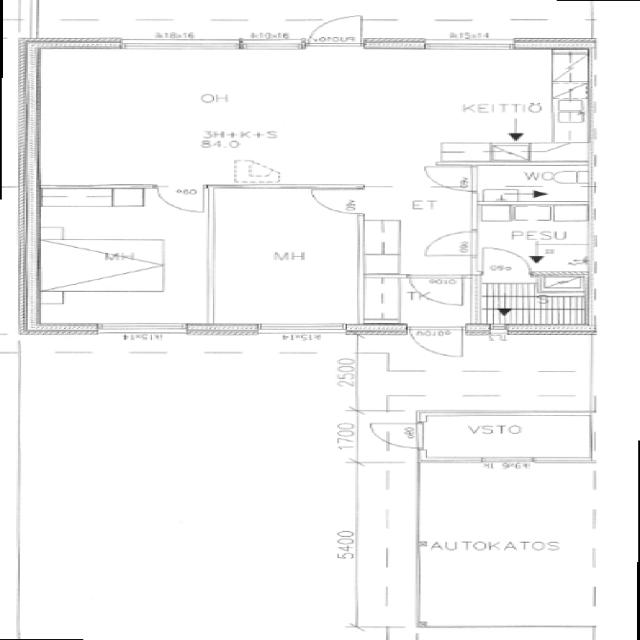door: (407, 236, 472, 307), (299, 12, 369, 49), (405, 323, 466, 361), (219, 158, 290, 190), (406, 273, 468, 307), (363, 419, 424, 451), (416, 229, 483, 258), (151, 182, 207, 215), (306, 185, 364, 216), (417, 162, 475, 192), (476, 245, 534, 275)
window: (406, 455, 588, 468), (113, 38, 248, 53), (90, 320, 194, 339), (414, 38, 525, 54), (252, 321, 348, 336)
zone: (16, 326, 371, 640), (13, 50, 600, 169), (416, 456, 596, 630), (28, 184, 206, 322), (207, 184, 360, 328), (476, 198, 592, 264), (481, 271, 588, 333), (471, 164, 590, 208)
